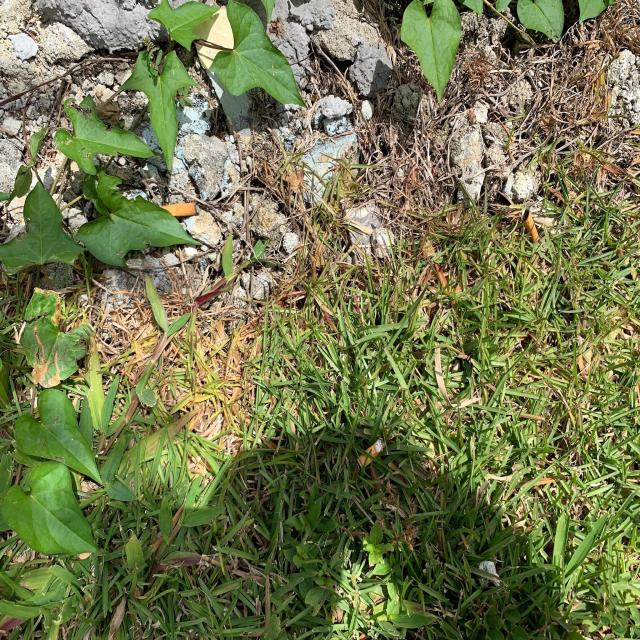litter: (357, 440, 385, 468), (521, 210, 540, 242), (162, 202, 199, 218)
